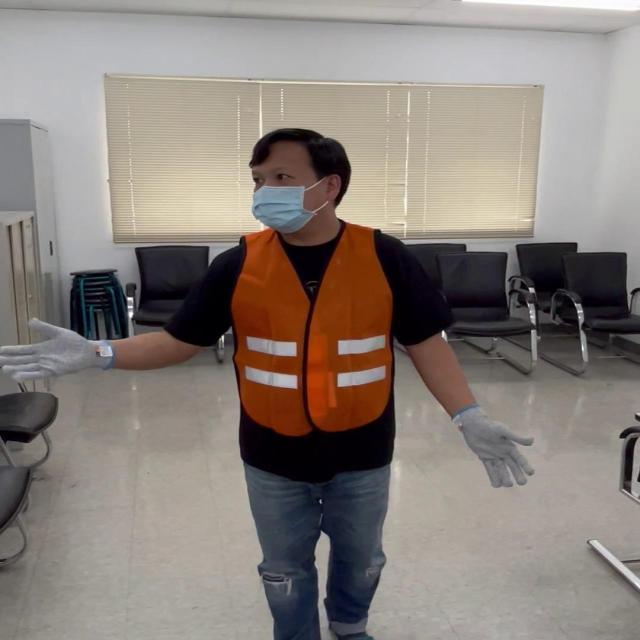gloved_hand: (11, 316, 126, 385), (457, 402, 535, 488)
